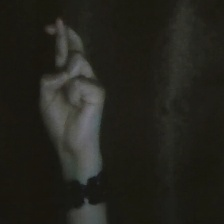R: (29, 9, 120, 159)
